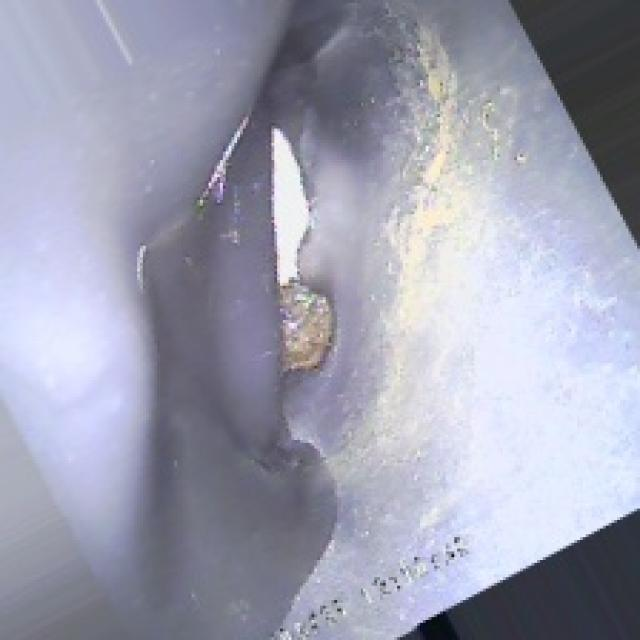shape_deformation: (63, 48, 543, 486)
